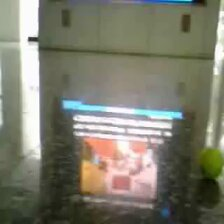tennis: (200, 147, 224, 177)
